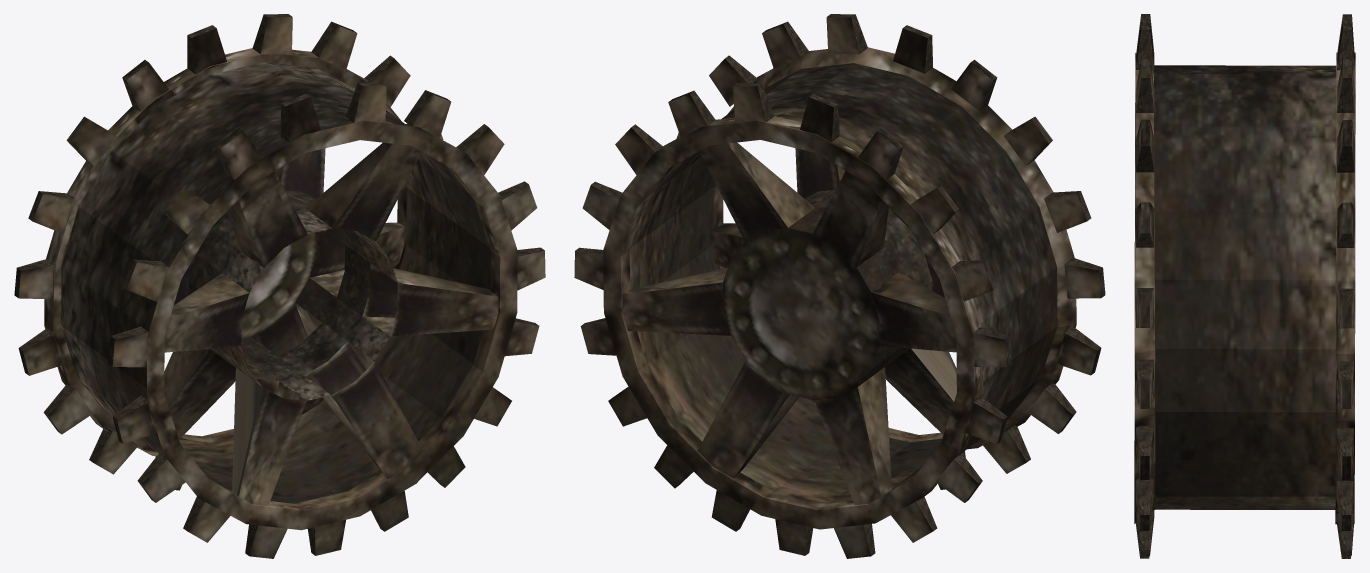
The model's file is frw.obj.
3 renders of one model, left to right at view 1: azimuth 30°, elevation 25°; view 2: azimuth 150°, elevation 25°; view 3: azimuth 270°, elevation 25°, orthographic. The views are drawn at different scales.
Visible parts, largest first — view 1: front_r_Wheel_Wheel.000; view 2: front_r_Wheel_Wheel.000; view 3: front_r_Wheel_Wheel.000.
Boxes of the visible parts, x1,y1,x2,y2 form: front_r_Wheel_Wheel.000: (14,14,545,558); front_r_Wheel_Wheel.000: (574,14,1105,558); front_r_Wheel_Wheel.000: (1134,14,1355,558).
Bounding box in the file's own units: 1.76 × 1.78 × 0.7226.
1 material, 1 textured.
